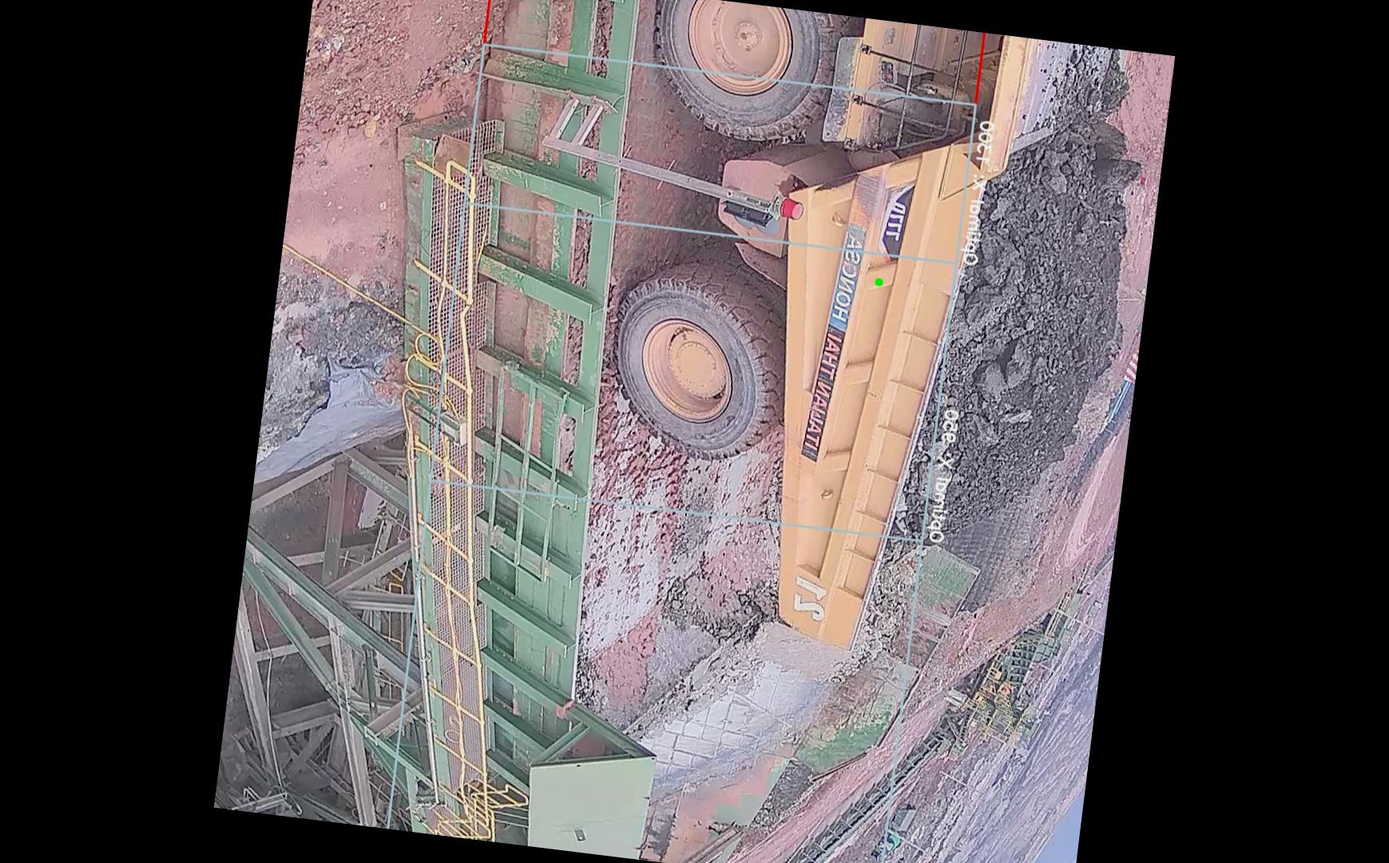company: (798, 209, 869, 470)
full_load: (914, 105, 1147, 538)
mining_truck: (581, 0, 1163, 693)
tail_number: (783, 565, 838, 632)
truck_size: (876, 177, 917, 260)
